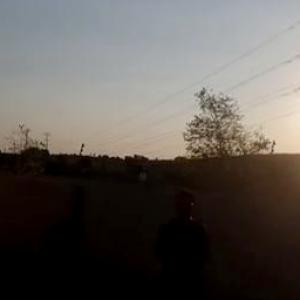follow: (148, 184, 213, 299)
